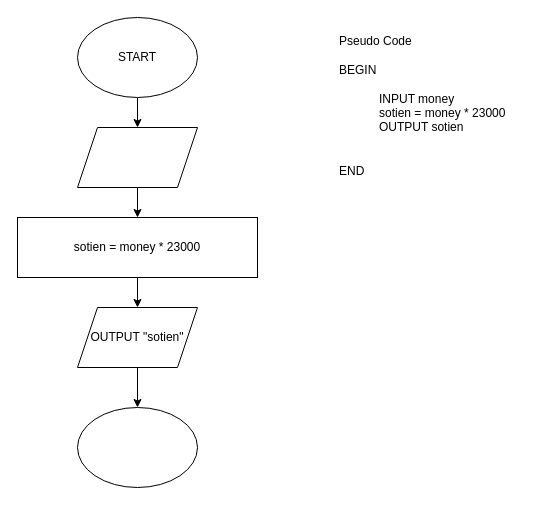
Image size: 535x505. Some labels were removed from this diagram. The centre of each missing label's shape, as x and y in pixels:
END: point 137,447
INPUT money: point 137,157
